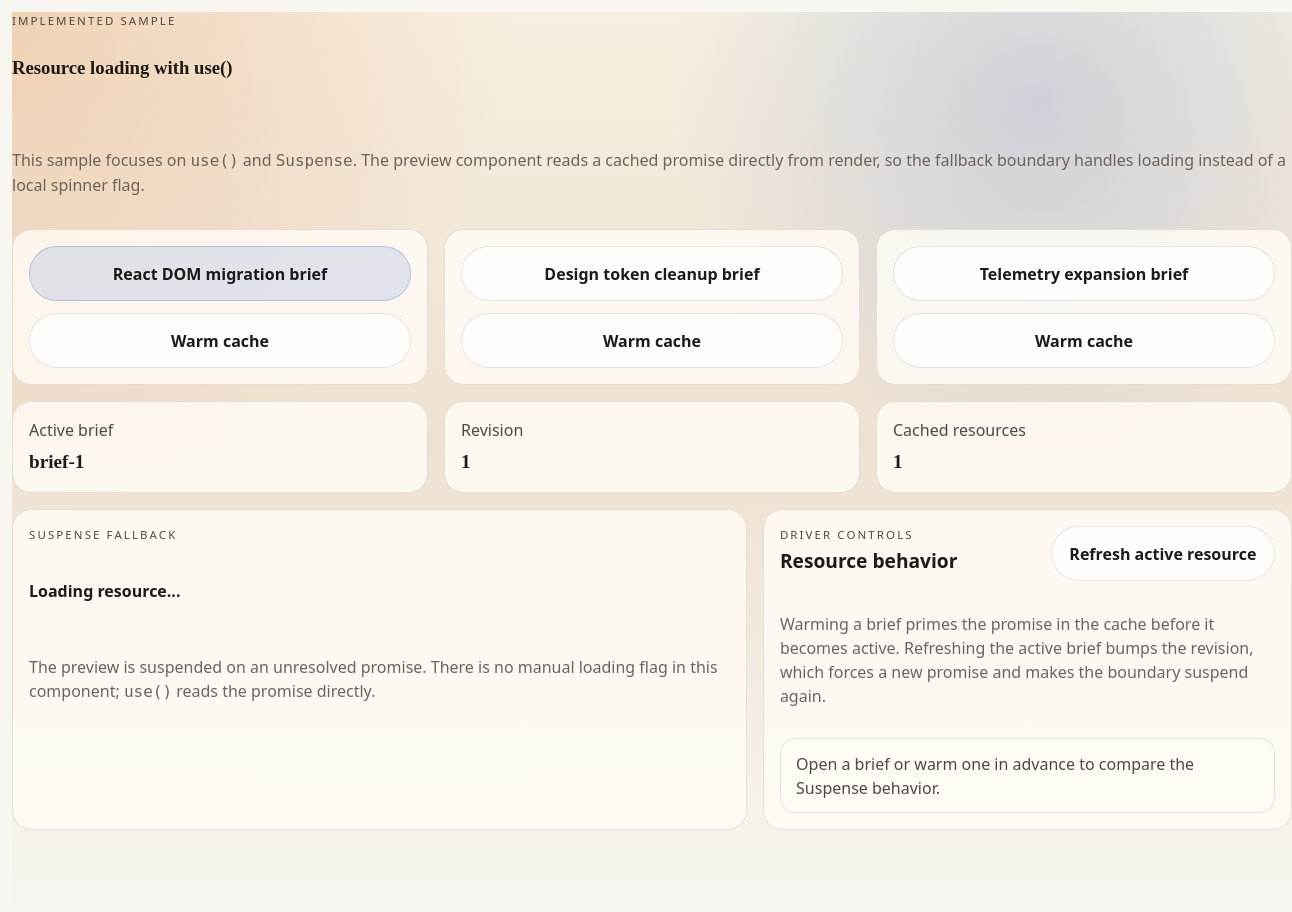
Scenario: use resource sample › creates a fresh revision key when the active resource is refreshed
This screenshot has width=1292, height=912.
Click the button "Refresh active resource".
click(1163, 554)  # box x1=1051 y1=526 x2=1275 y2=581
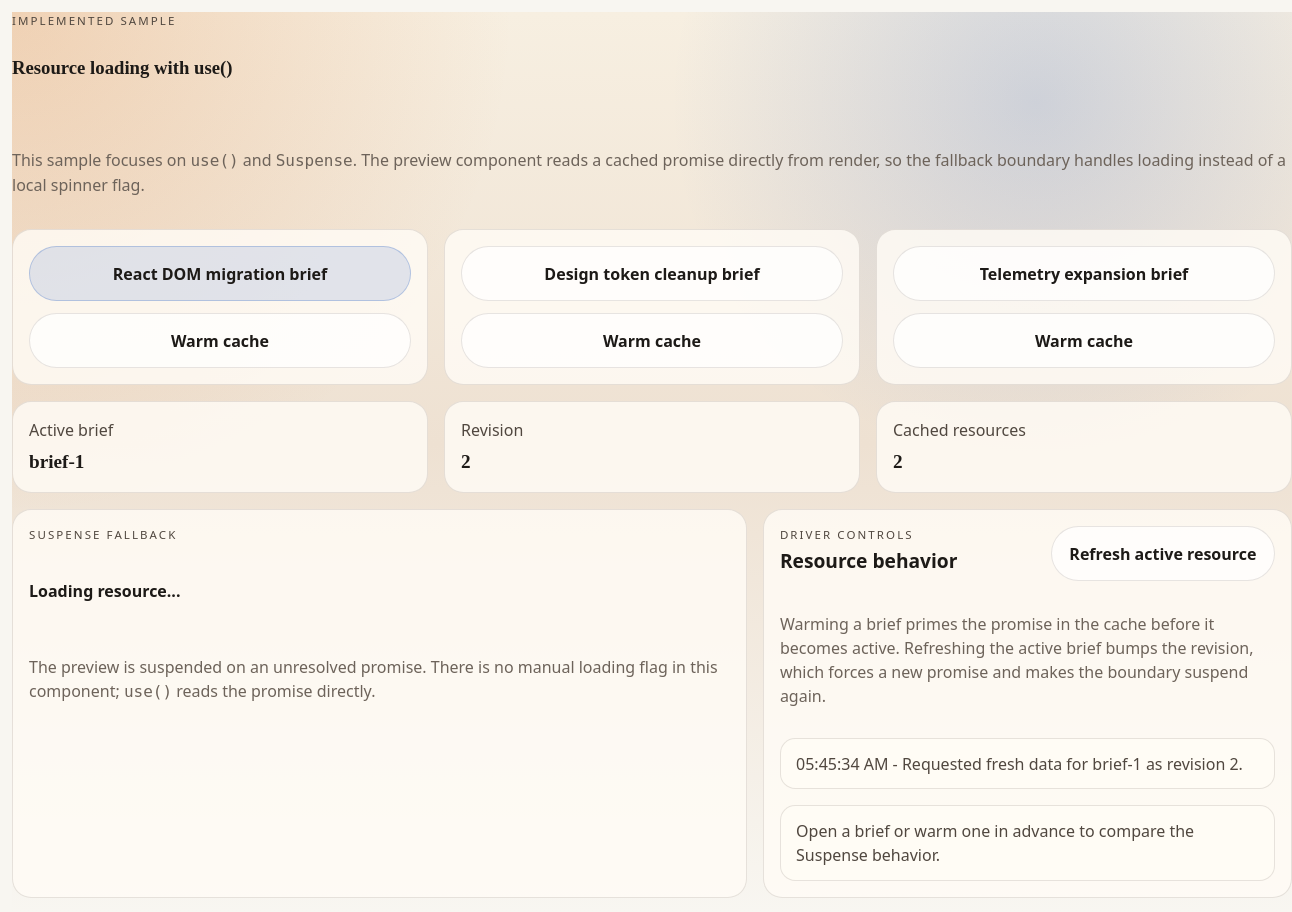
Check: the 1st text "2" is shown, box x1=461 y1=450 x2=471 y2=472
Check: the text "2" below "Cached resources" is shown, box x1=893 y1=450 x2=903 y2=472
Check: the text "Requested fresh data for brief-1 as revision 2." is shown, box x1=796 y1=753 x2=1243 y2=775
